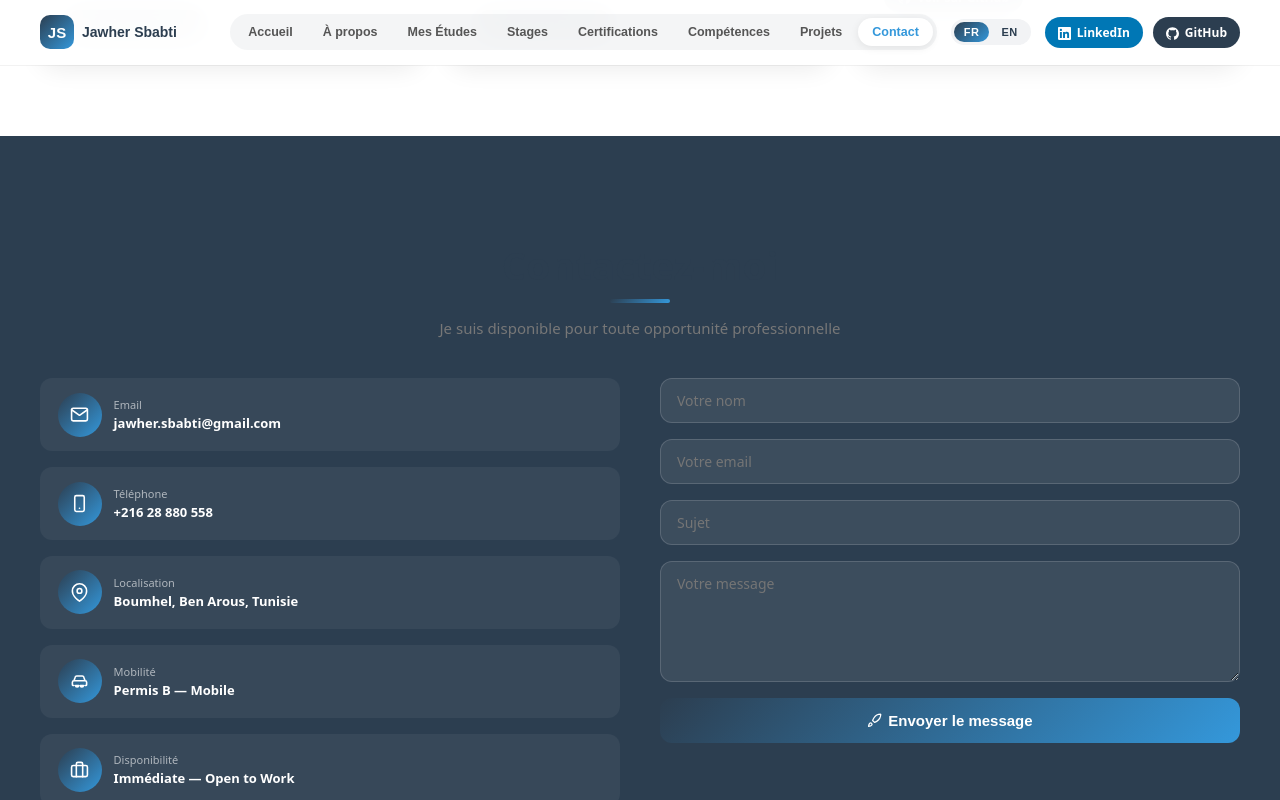
it: Portfolio de Jawher Sbabti › formulaire de contact › refuse une adresse email invalide
(page scrolled)
Type "Test" into the field labelled "Votre nom" at [950, 401], box [660,378,1240,423]
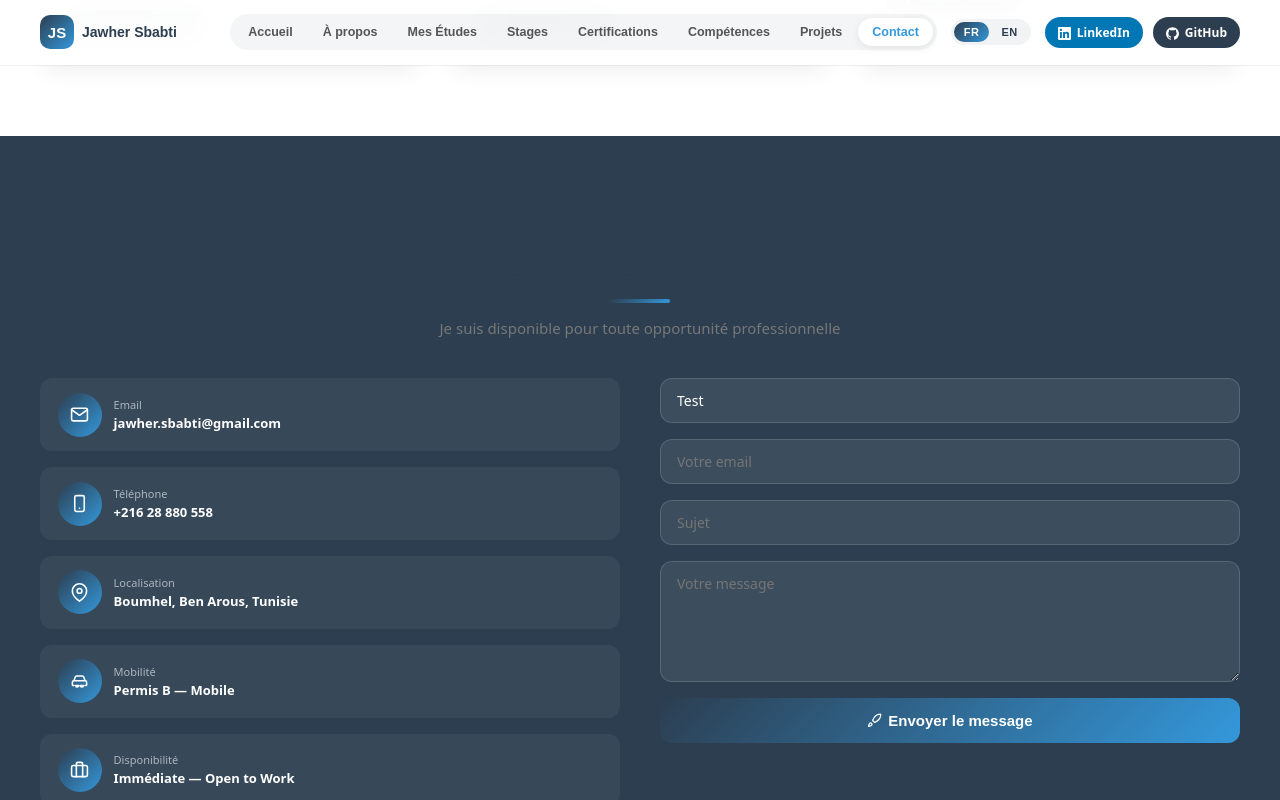
Type "pas-un-email" into the field labelled "Votre email" at [950, 462], box [660,439,1240,484]
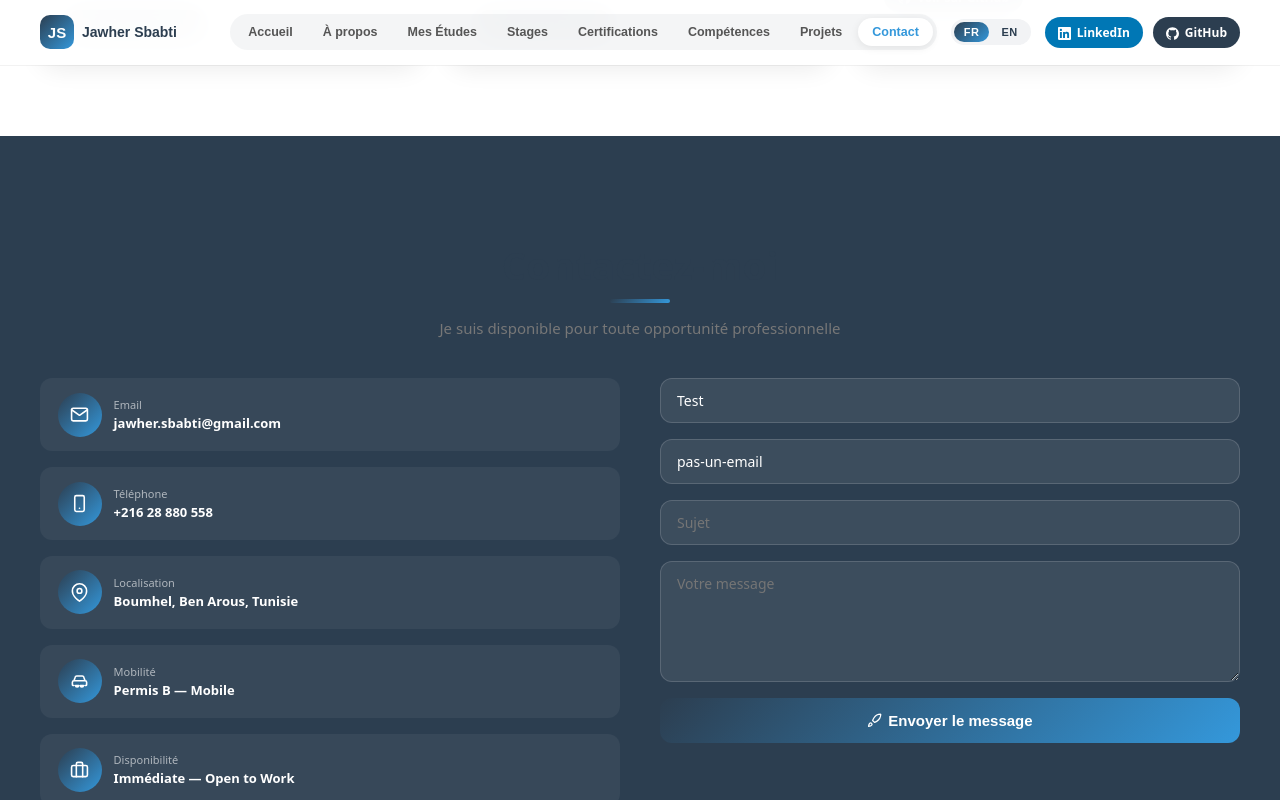
Type "Bonjour" into the text box labelled "Votre message" at [950, 622], box [660,561,1240,682]
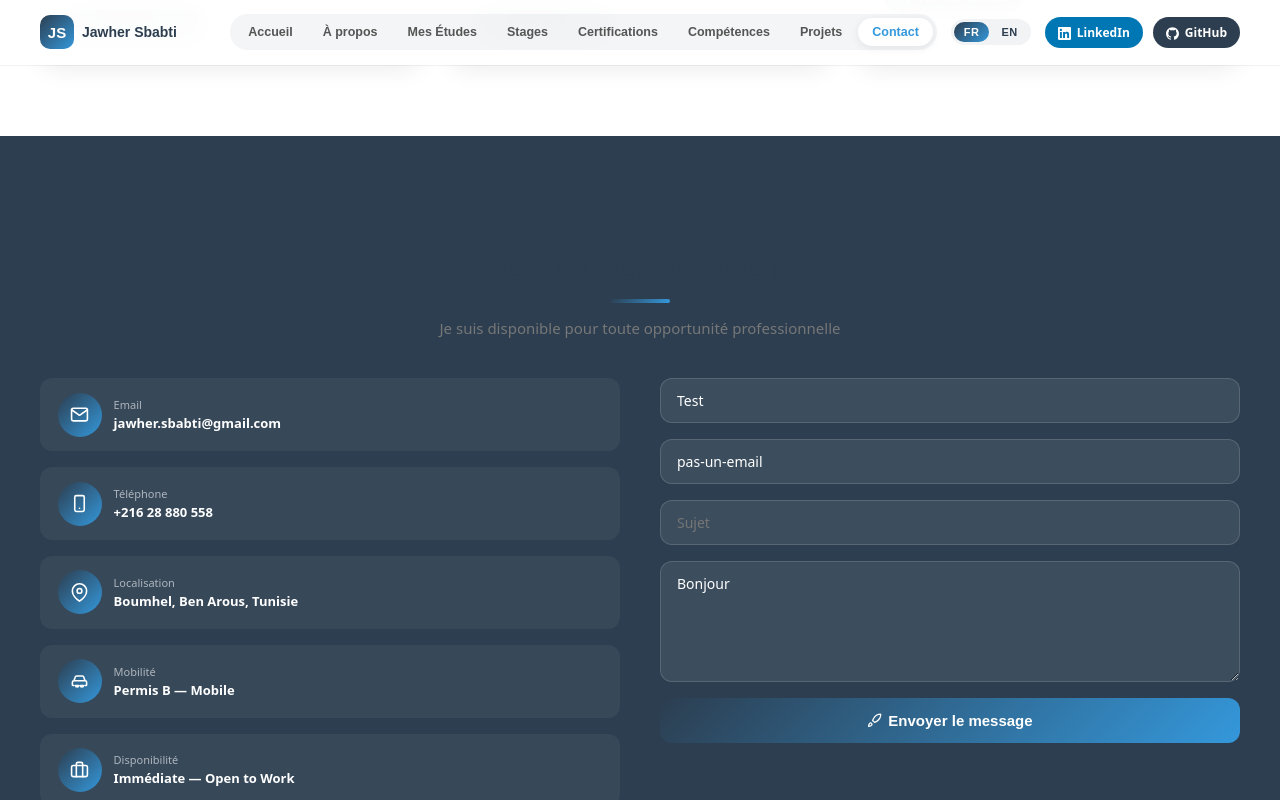
Click the button "Envoyer le message" at [950, 721], box [660,698,1240,743]
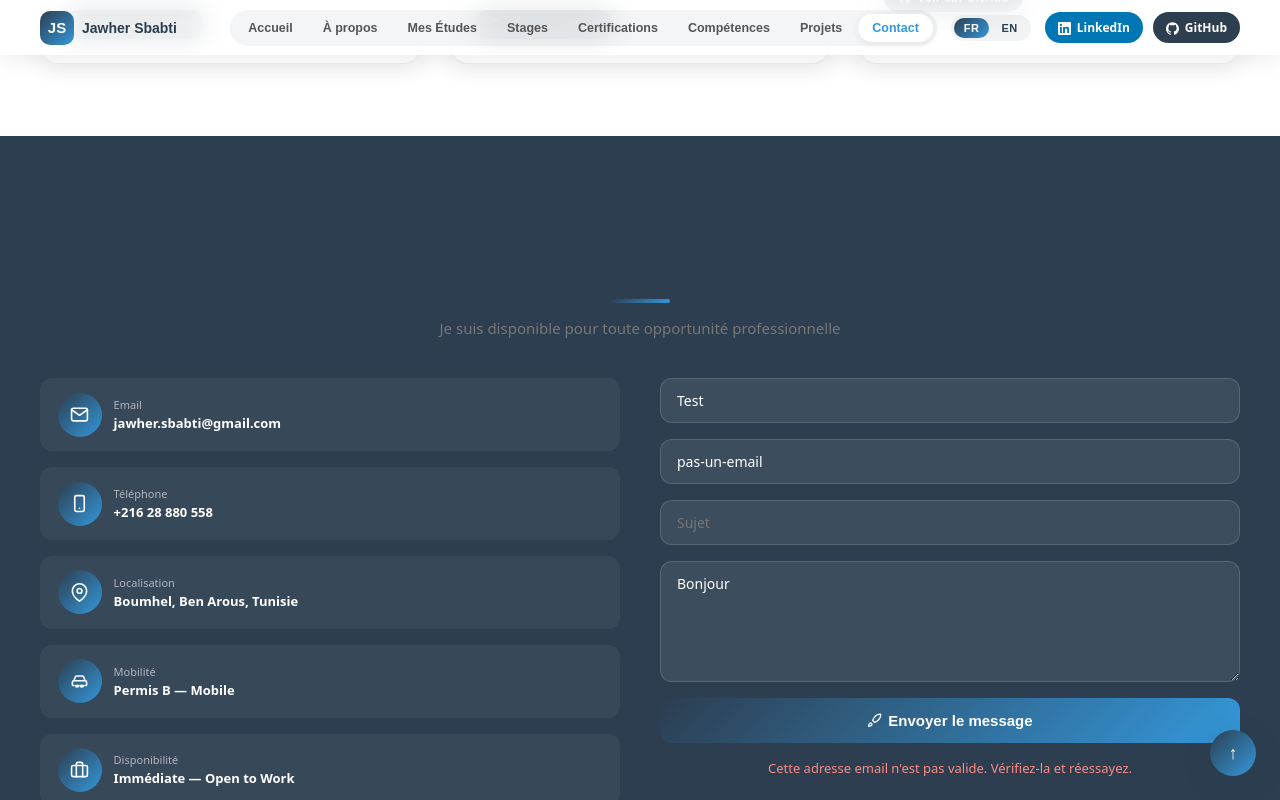
Expected: the text "adresse email n'est pas valide" is shown, [768,759,1132,777]
